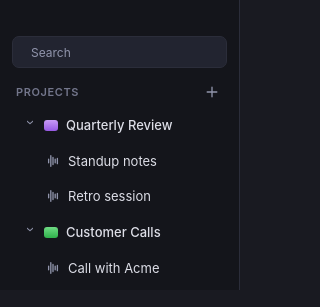
Scenario: Sidebar › clears the search field when the clear button is clicked
Type "abc" into the search field named "Search projects and recordings" at (127, 52), box [31,44,223,60]
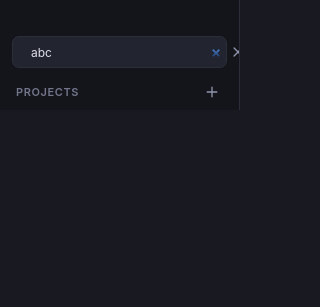
Click the button named "Clear search" at (238, 52), box [231,45,245,59]
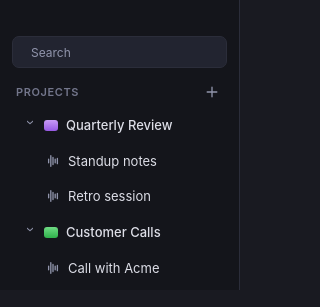
Now the search field named "Search projects and recordings" is empty, box [31,44,223,60]
